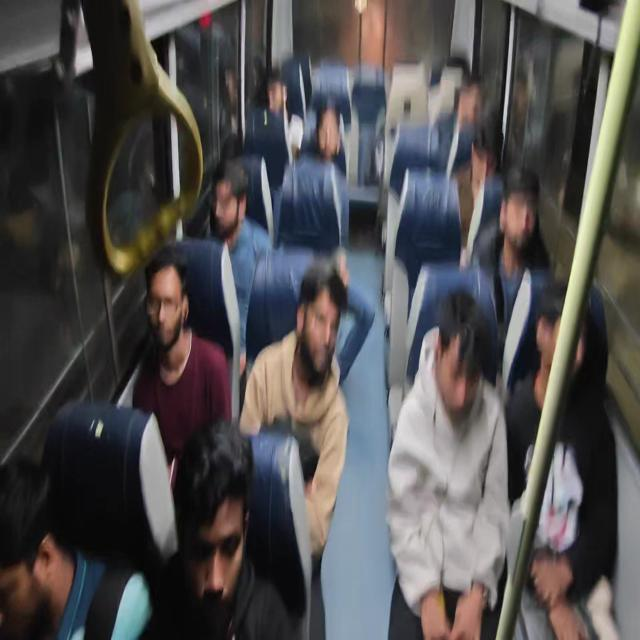person: (386, 288, 510, 638), (502, 277, 619, 638), (238, 262, 350, 637), (29, 400, 178, 638), (139, 417, 296, 639), (130, 249, 232, 486), (470, 165, 553, 383), (187, 156, 272, 360), (0, 456, 56, 639), (294, 98, 349, 250), (453, 138, 503, 268), (244, 70, 291, 190)
